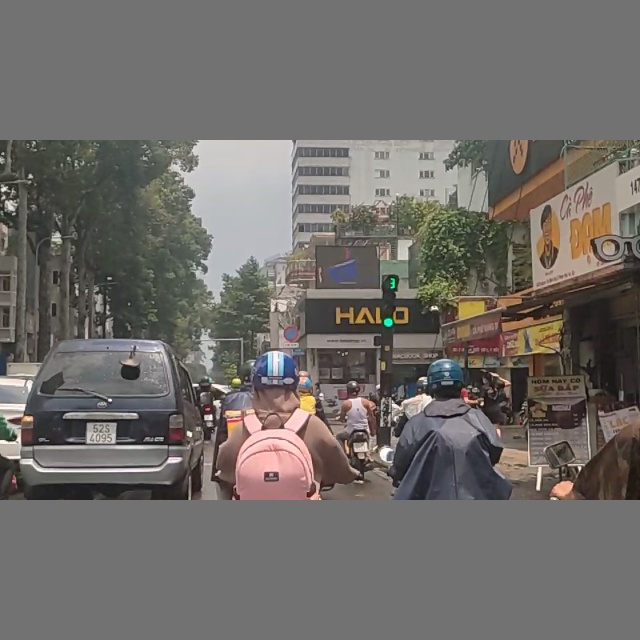P.131a: (282, 326, 299, 343)
